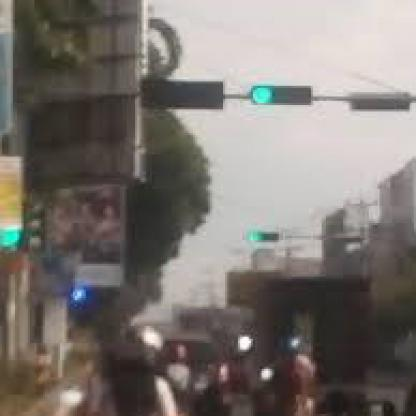green: (253, 86, 313, 107)
